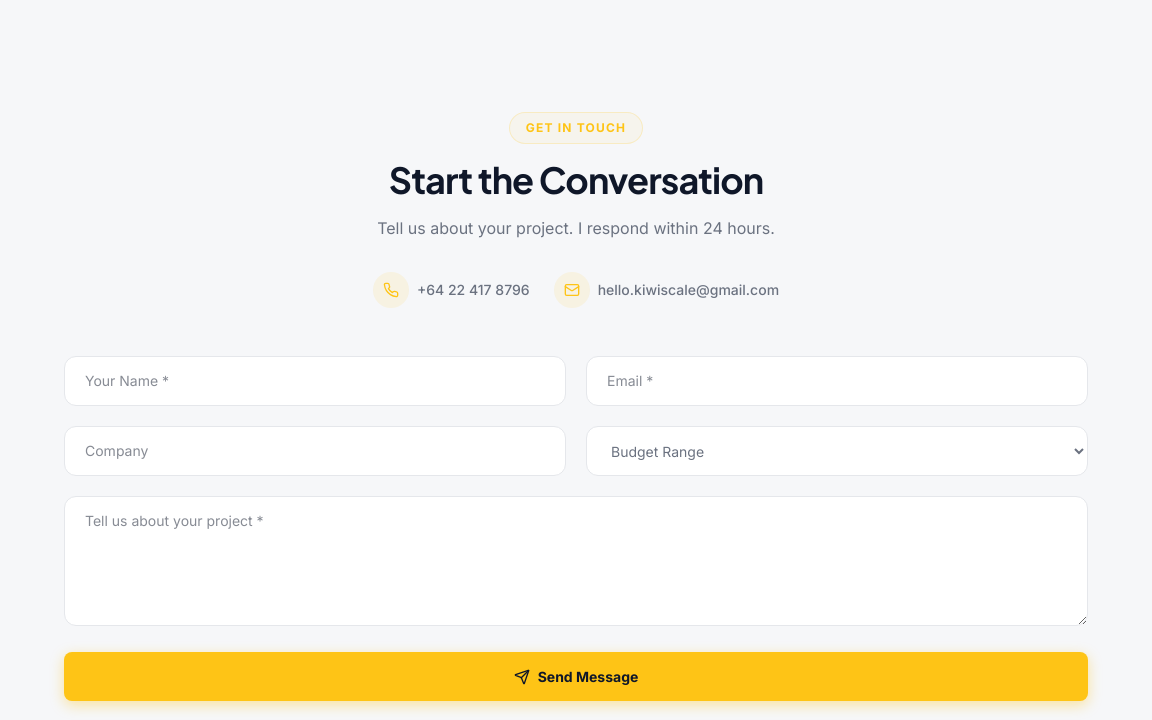
Test case: ContactFormSection › shows success message after valid form submission
Type "Dasitha" into the field with placeholder "Your Name *". click: (315, 381)
box: [64,356,566,406]
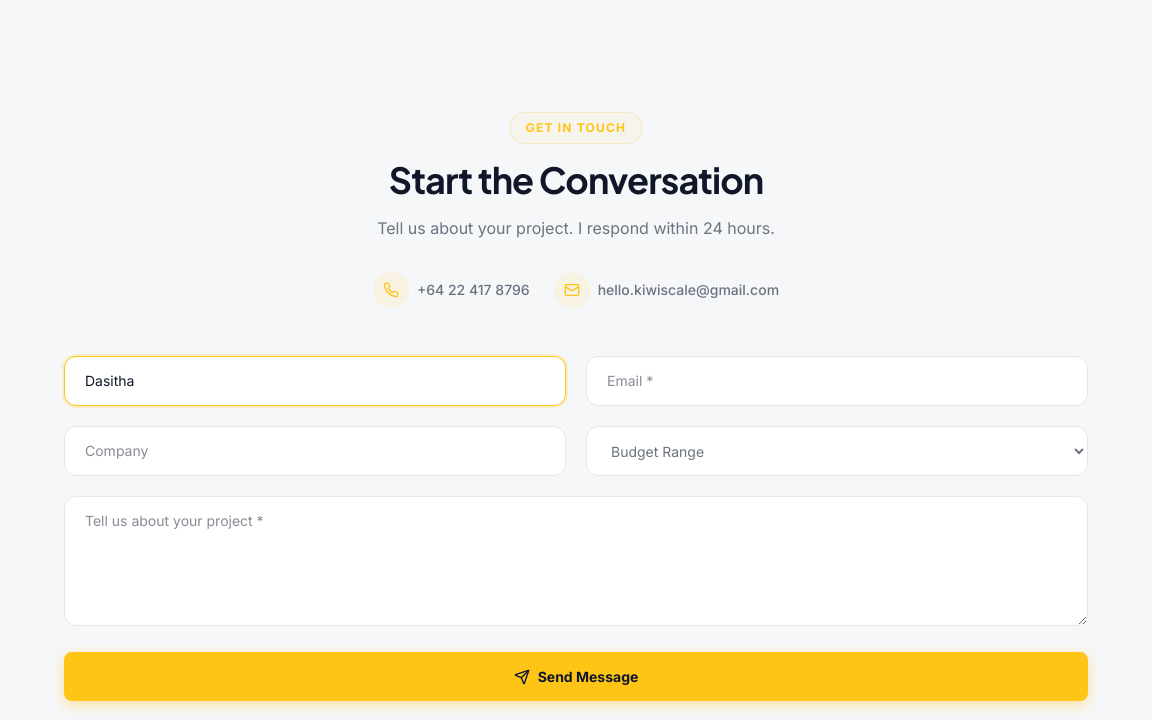
Type "dasitha@example.com" into the field with placeholder "Email *". click: (837, 381)
box: [586,356,1088,406]
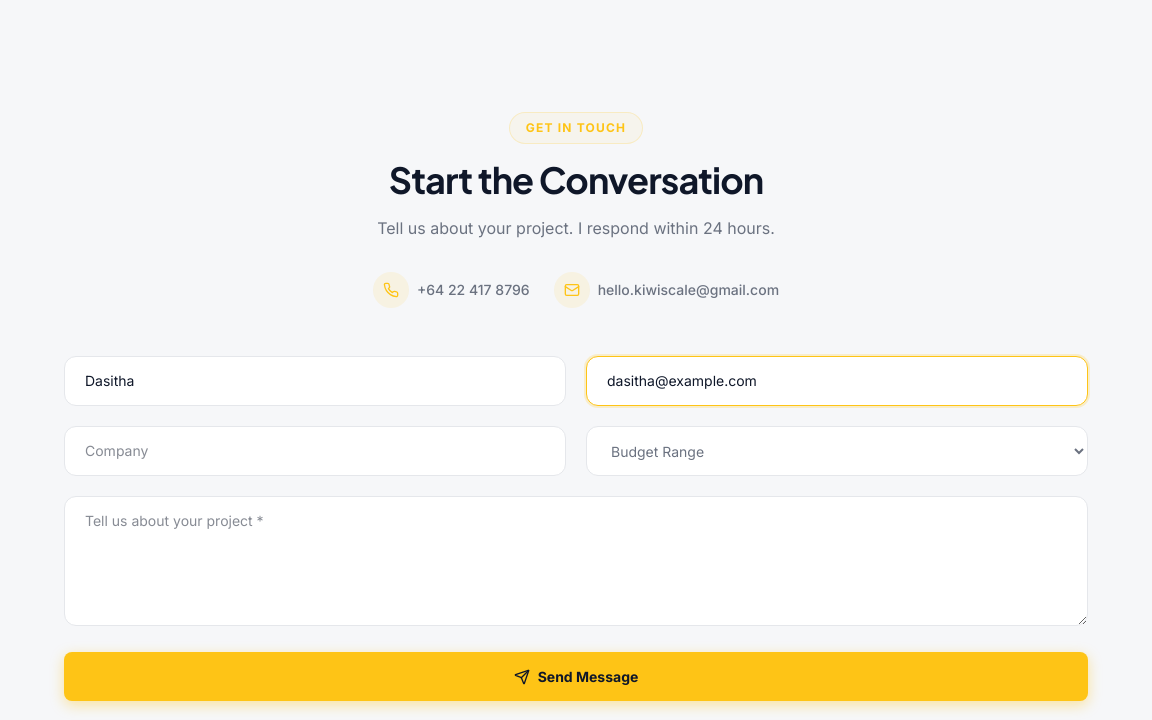
Type "I need a new website" into the text box with placeholder "Tell us about your project *". click: (576, 561)
box: [64,496,1088,626]
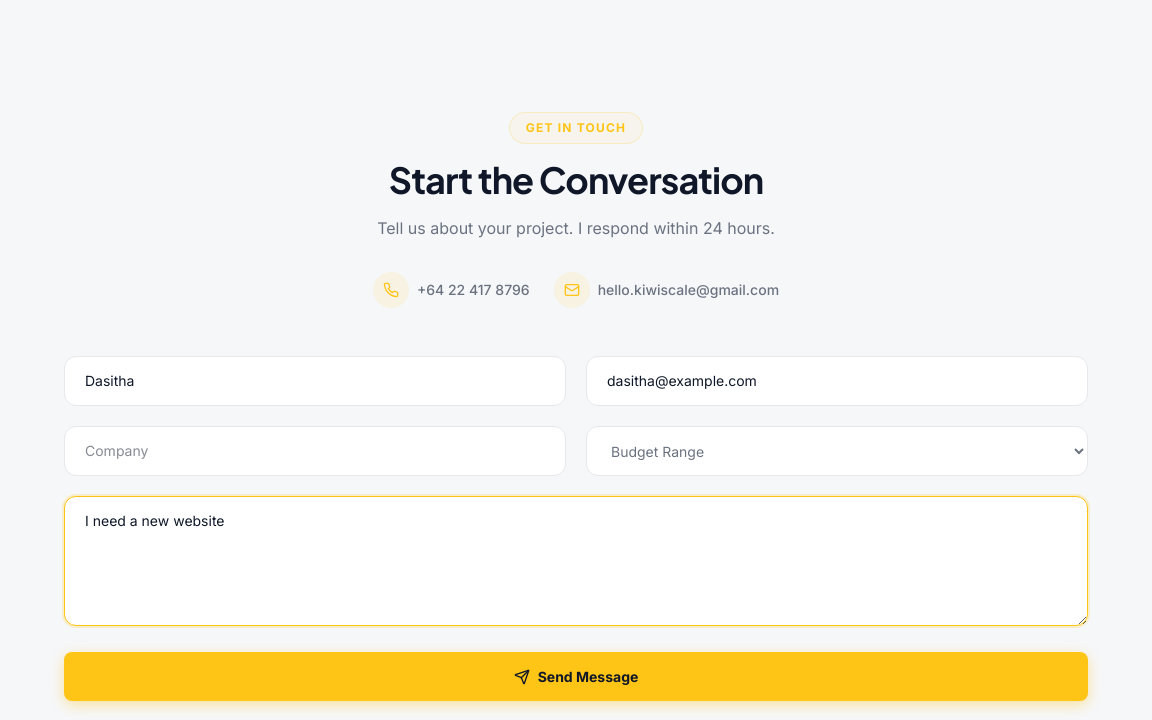
Click the button "Send Message". click: (576, 676)
box: [64,652,1088,701]
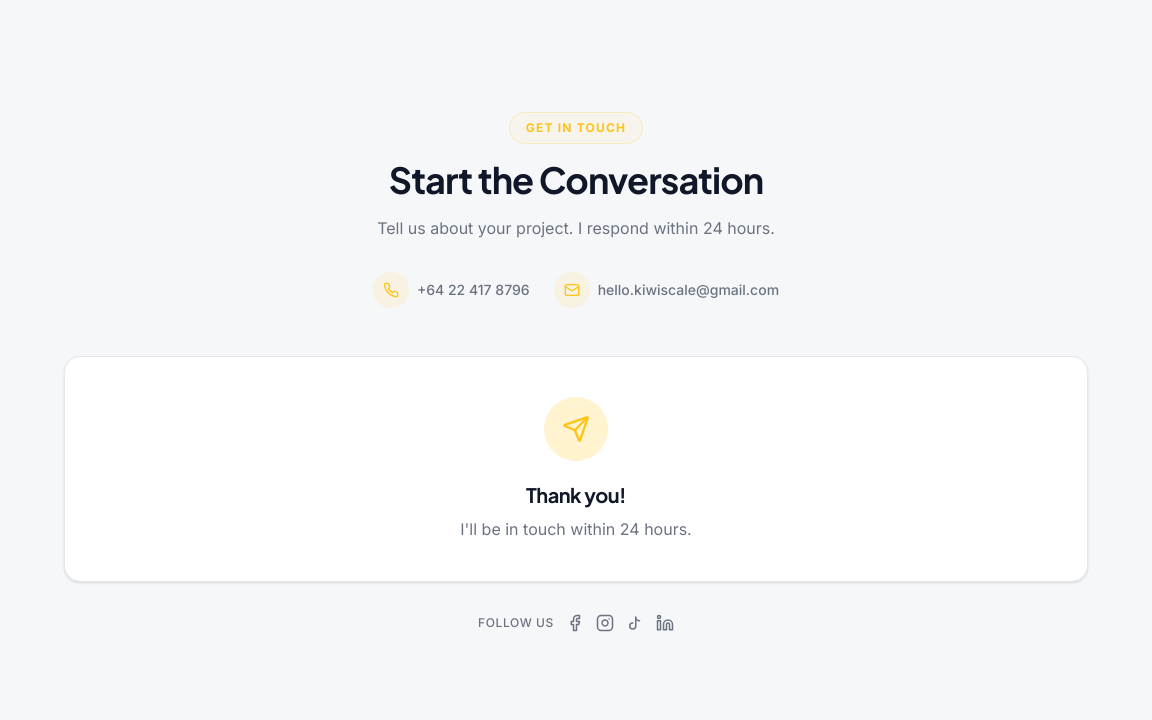
Expected: the heading "Thank you!" is shown, [526,482,626,507]
